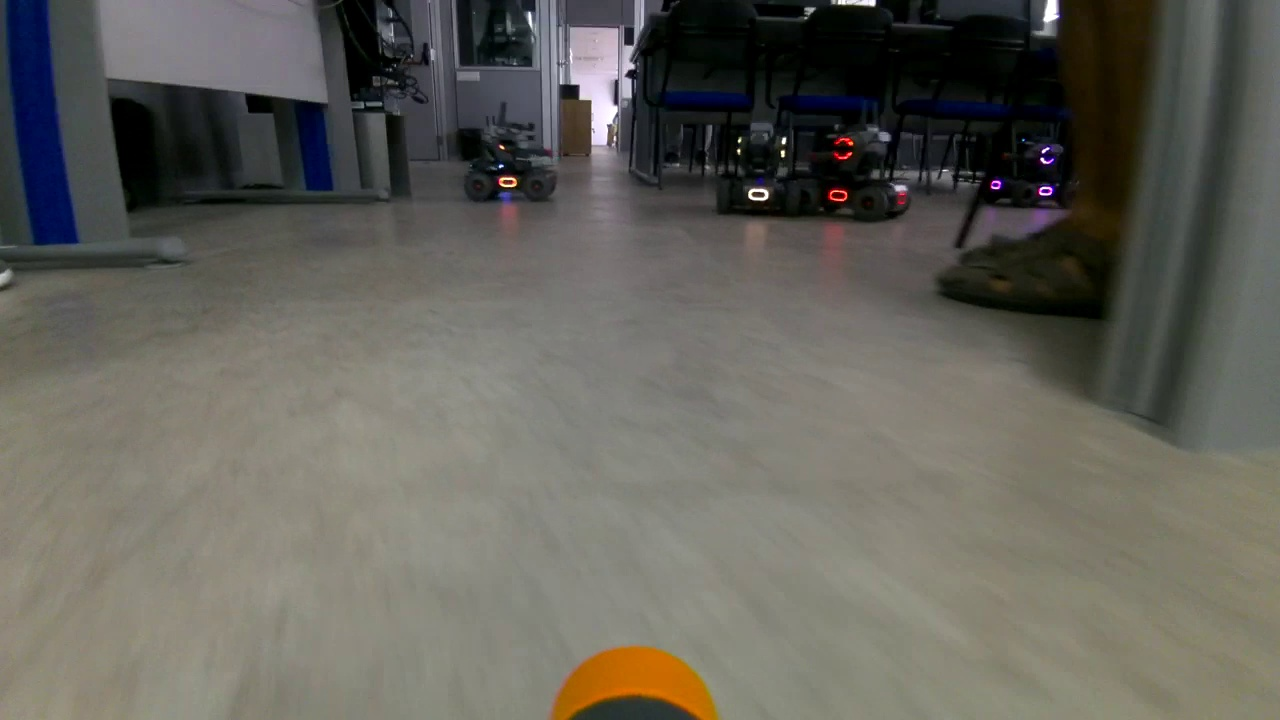robot: (801, 97, 921, 225), (458, 99, 561, 203), (708, 117, 811, 218), (974, 113, 1075, 210)
